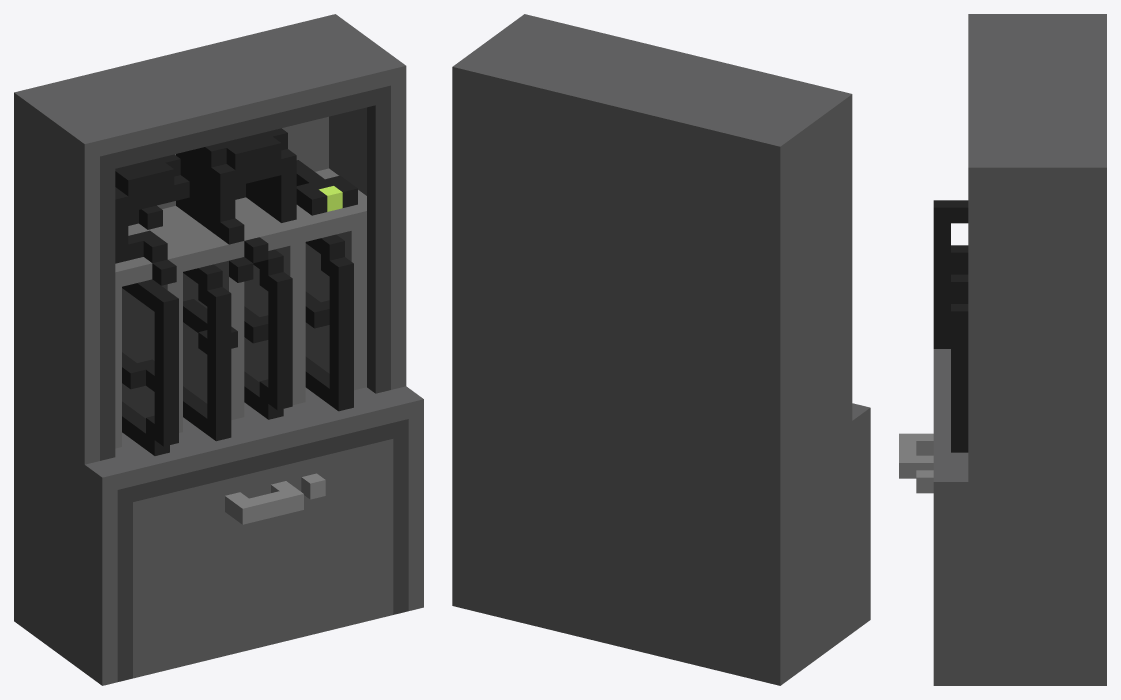
File: Security Riot Gear Locker 1.obj
3 views of the same model, side by side, from view 1: azimuth 30°, elevation 25°; view 2: azimuth 150°, elevation 25°; view 3: azimuth 270°, elevation 25° (orthographic). The views are drawn at different scales.
Size of the model in its own units: 21 by 33 by 12.
1 material, 1 textured.
